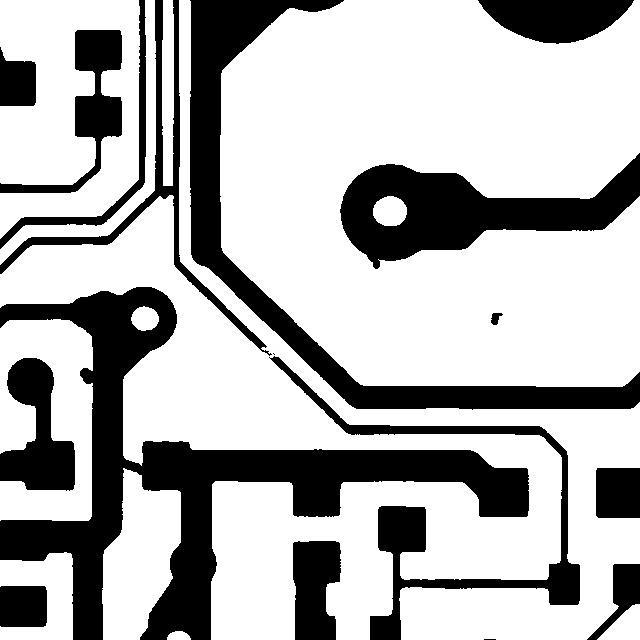copper: (481, 303, 512, 334)
open: (242, 337, 289, 367)
short: (109, 448, 159, 486), (147, 176, 186, 208)
spur: (70, 358, 107, 393), (357, 240, 389, 278)
